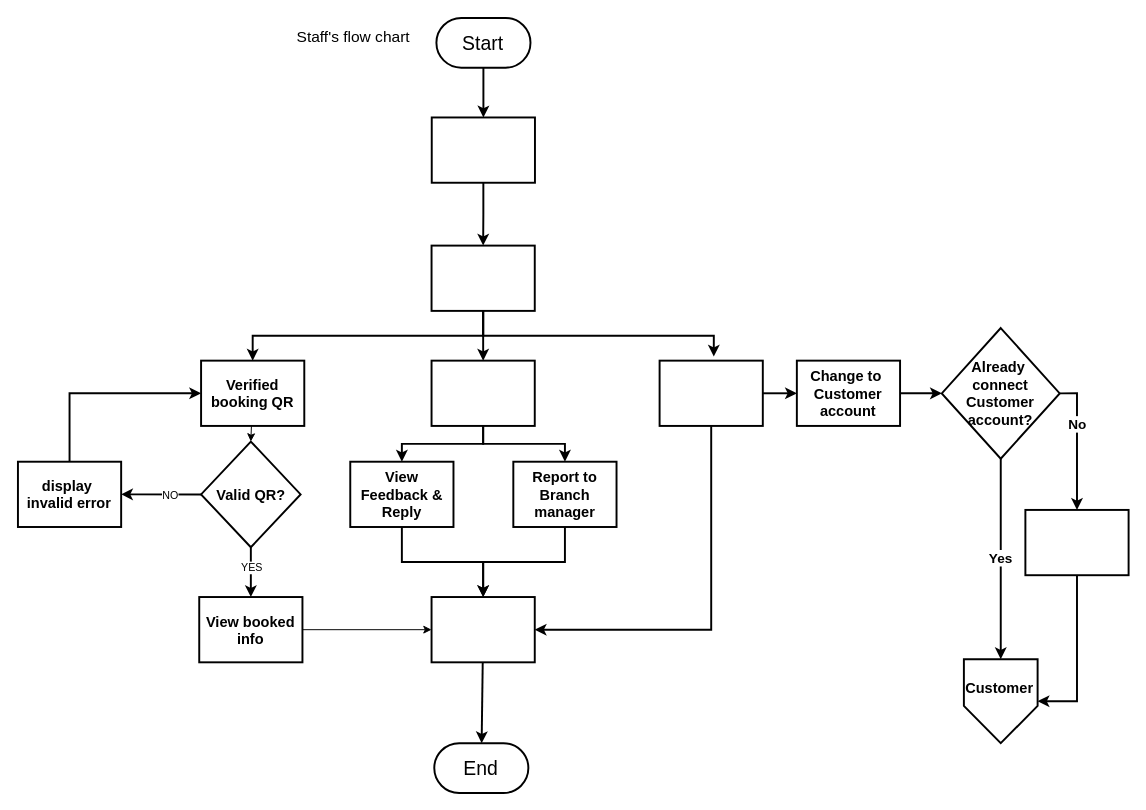
Some shapes in this 1146 by 810 pixel diagram are drawn without their labels. Here are the shapes that lost their labels. From the top down, the centre of each, then its label:
(x=482, y=149): Login
(x=482, y=277): Dashboard
(x=482, y=392): Feedback
(x=710, y=392): Edit Profile
(x=1076, y=542): Connect Customer account
(x=482, y=629): Logout
